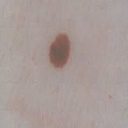Melanoma: (48, 30, 72, 70)
